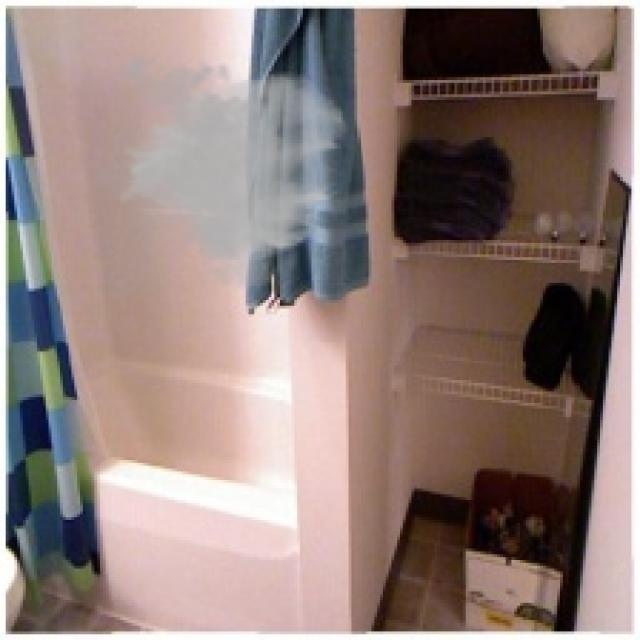Smoke: (95, 45, 352, 298)
